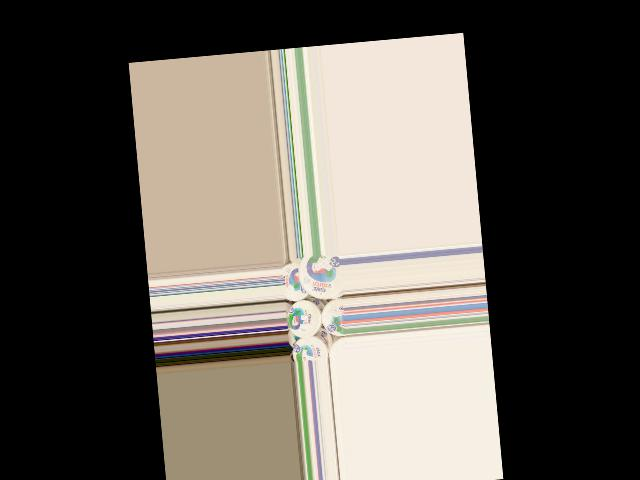cotage: (281, 261, 309, 304)
